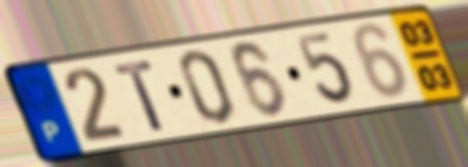0: (177, 46, 239, 128)
2: (63, 65, 131, 146)
5: (293, 29, 357, 108)
6: (350, 18, 413, 105), (229, 38, 291, 120)
T: (111, 57, 170, 134)
